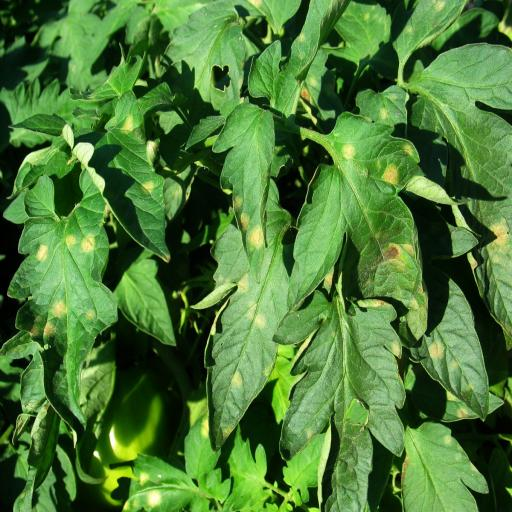Healthy: (116, 258, 176, 347)
Leaf Mold: (288, 109, 442, 345), (7, 164, 109, 431), (279, 297, 405, 512), (191, 204, 291, 450), (67, 96, 173, 254), (416, 277, 489, 426), (220, 101, 276, 281), (400, 420, 489, 512), (390, 0, 470, 64), (119, 453, 199, 512)
